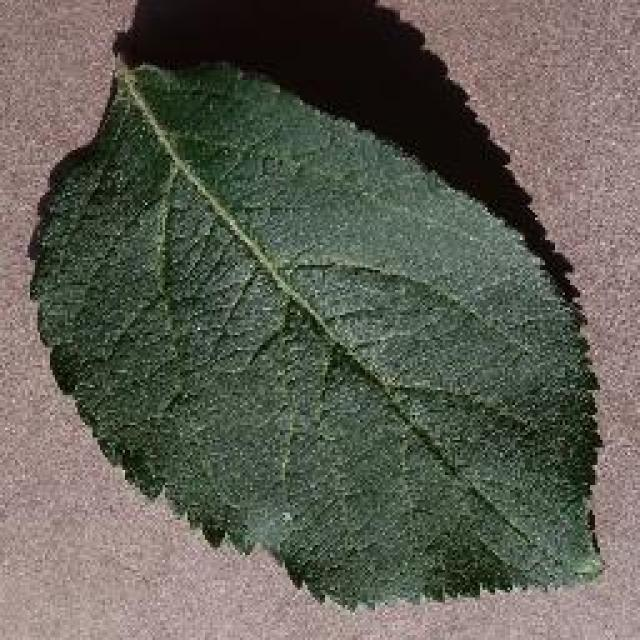apple healthy: (24, 0, 607, 612)
